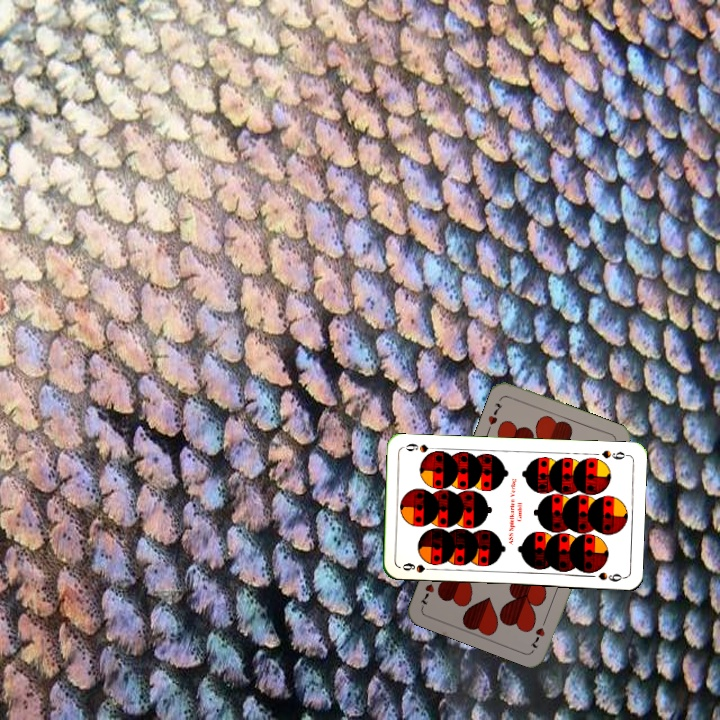H7: (526, 613, 550, 652), (484, 399, 505, 428)
S9: (398, 559, 438, 575), (598, 447, 631, 462)
